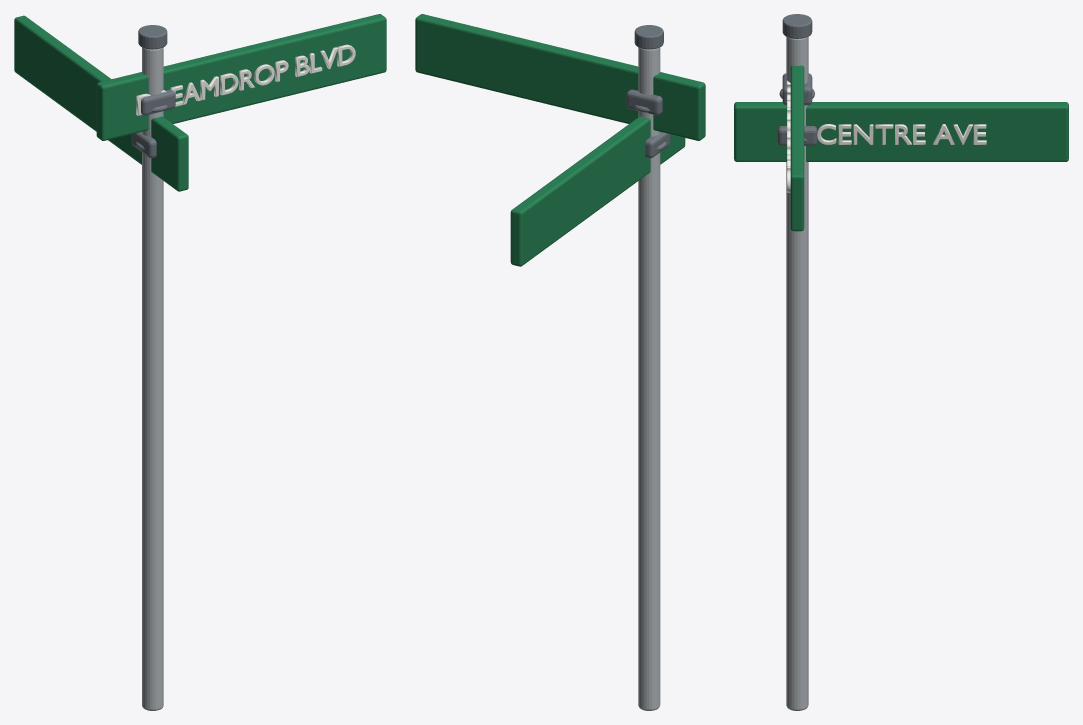
File: prop_starter_street_name_sign_a_v01.glb
The picture shows the model from 3 angles, left to right: view 1: azimuth 30°, elevation 25°; view 2: azimuth 150°, elevation 25°; view 3: azimuth 270°, elevation 25°; orthographic projection.
Visible parts, largest first — view 1: component__dreamdrop_blade__dreamdrop_blade, component__vertical_pole__street_sign_pole, component__centre_blade__centre_blade, component__street_lettering__dreamdrop_text, component__pole_cap__pole_cap, component__brackets__blade_bracket_x; view 2: component__dreamdrop_blade__dreamdrop_blade, component__vertical_pole__street_sign_pole, component__centre_blade__centre_blade, component__pole_cap__pole_cap, component__brackets__blade_bracket_x; view 3: component__centre_blade__centre_blade, component__vertical_pole__street_sign_pole, component__dreamdrop_blade__dreamdrop_blade, component__street_lettering__centre_text, component__pole_cap__pole_cap.
Boxes of the visible parts, x1=… form: component__dreamdrop_blade__dreamdrop_blade: x1=96, y1=14, x2=386, y2=140; component__vertical_pole__street_sign_pole: x1=142, y1=47, x2=163, y2=710; component__centre_blade__centre_blade: x1=14, y1=15, x2=188, y2=191; component__street_lettering__dreamdrop_text: x1=136, y1=44, x2=355, y2=115; component__pole_cap__pole_cap: x1=138, y1=25, x2=167, y2=49; component__brackets__blade_bracket_x: x1=141, y1=89, x2=175, y2=115; component__dreamdrop_blade__dreamdrop_blade: x1=415, y1=14, x2=705, y2=140; component__vertical_pole__street_sign_pole: x1=638, y1=47, x2=660, y2=710; component__centre_blade__centre_blade: x1=510, y1=116, x2=685, y2=266; component__pole_cap__pole_cap: x1=634, y1=25, x2=663, y2=49; component__brackets__blade_bracket_x: x1=626, y1=89, x2=662, y2=115; component__centre_blade__centre_blade: x1=734, y1=102, x2=1068, y2=161; component__vertical_pole__street_sign_pole: x1=786, y1=36, x2=808, y2=710; component__dreamdrop_blade__dreamdrop_blade: x1=790, y1=65, x2=804, y2=231; component__street_lettering__centre_text: x1=817, y1=124, x2=986, y2=144; component__pole_cap__pole_cap: x1=782, y1=14, x2=812, y2=38.
Bounding box in the file's own units: 1.35 × 3.06 × 1.35.
